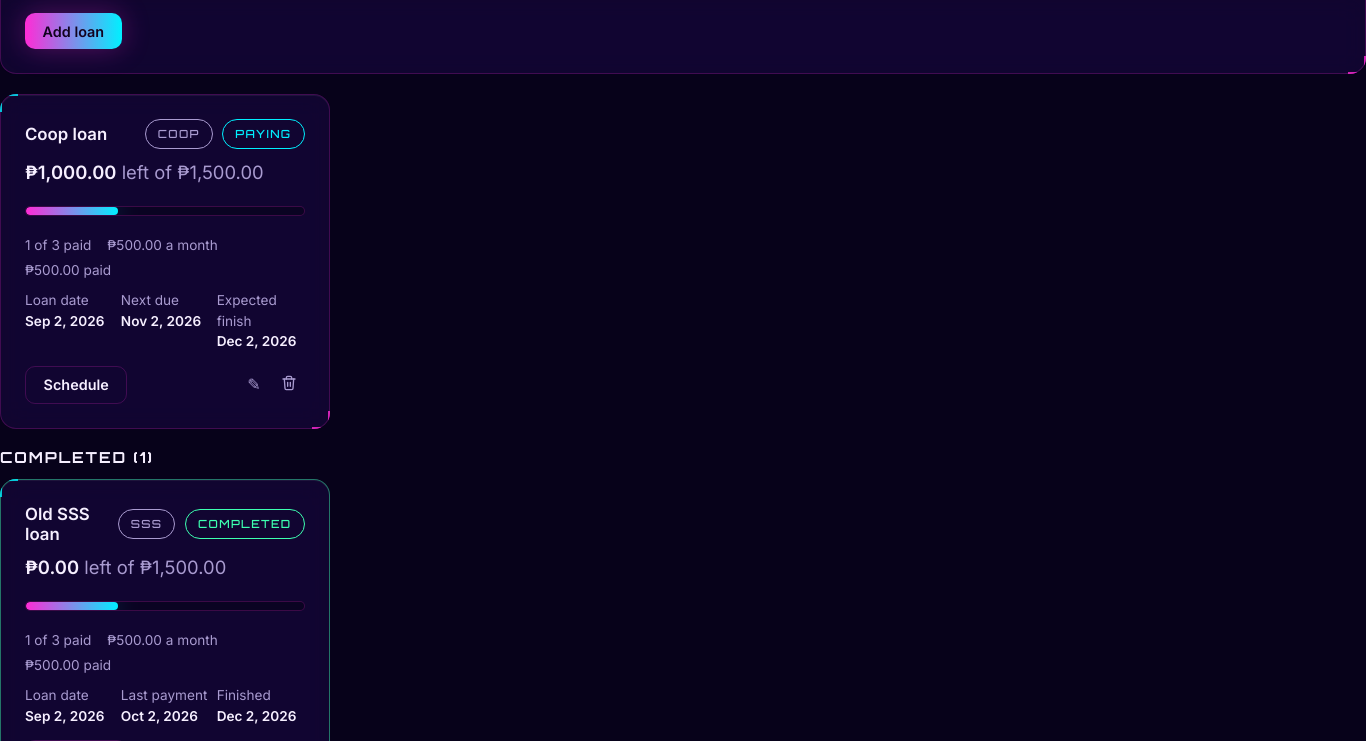
Test case: LoansApp › opens the schedule with paid and upcoming months
(page scrolled)
Step 1. Click the button "Schedule" below "Expected finish" → (76, 385), box [25,366,127,404]
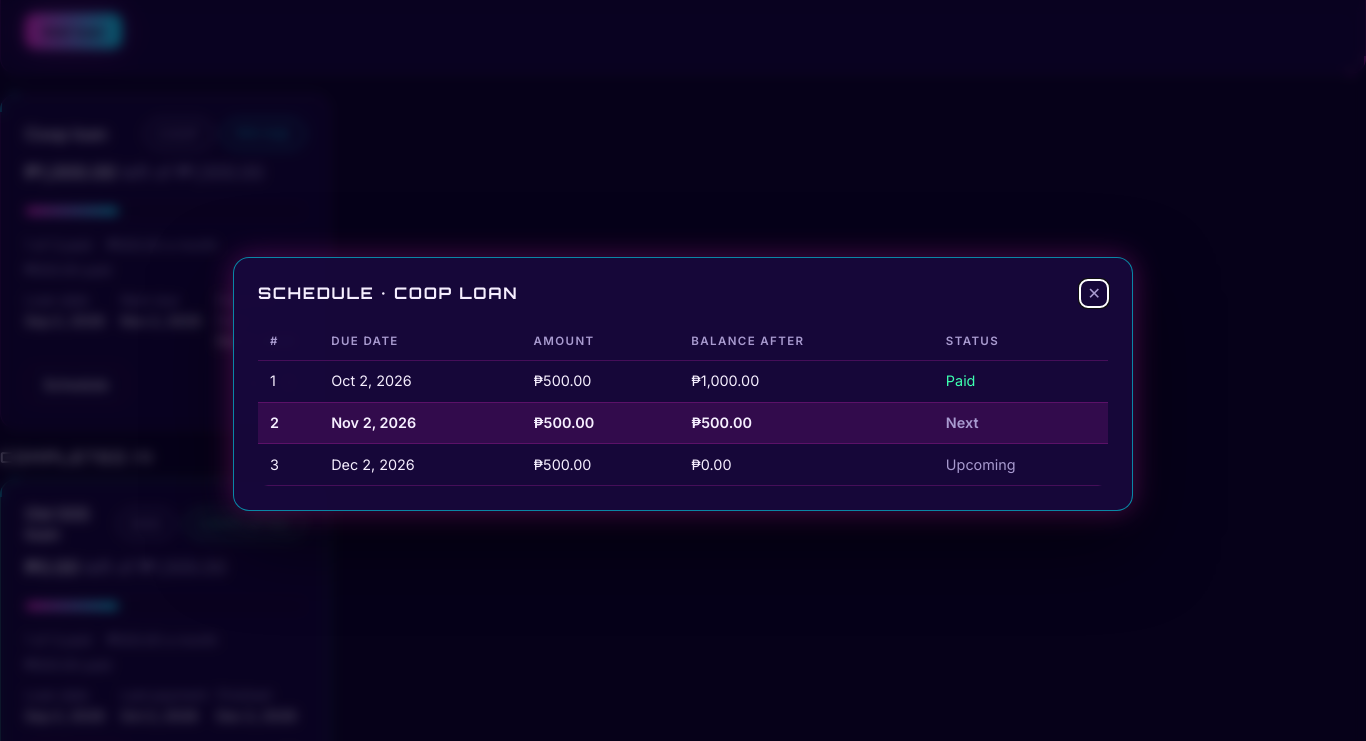
Check: the number of rows is 4, box [258,323,1108,360]; [258,360,1108,402]; [258,402,1108,444]; [258,444,1108,486]
Check: the text "Paid" is shown, box [934,360,1108,402]
Check: the text "Next" is shown, box [934,402,1108,444]
